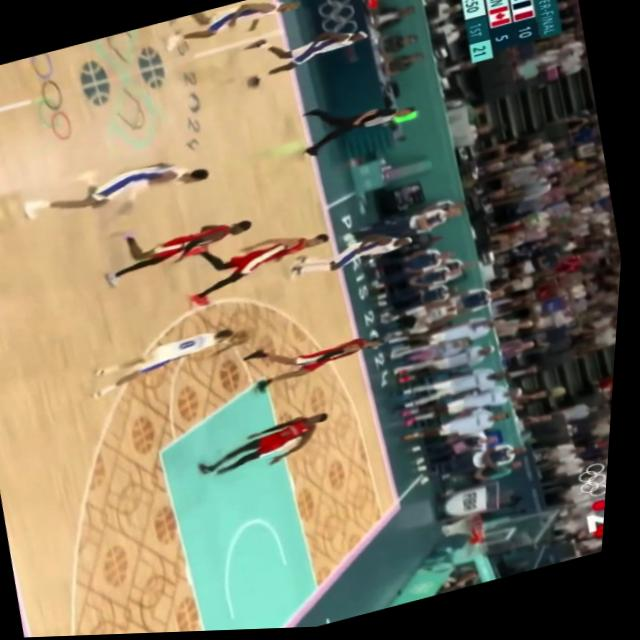ball_handler: (85, 319, 264, 405)
